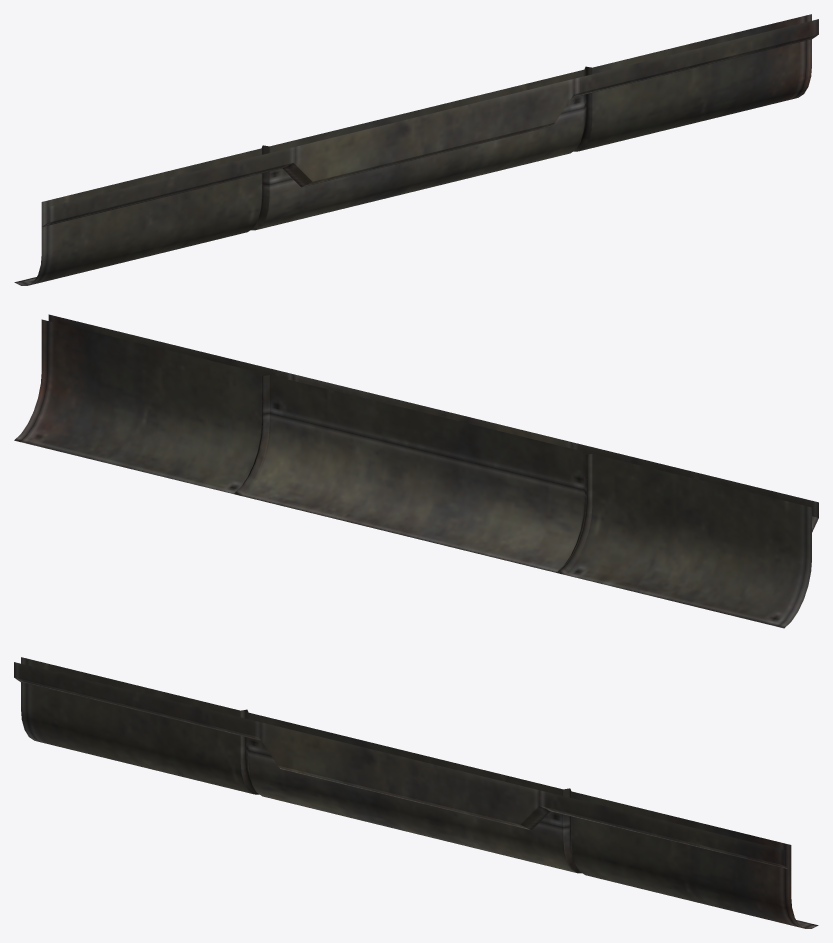
Rendered from welder_ceiling_pplant.dae.
3 views of the same model, one above another, from view 1: azimuth 30°, elevation 25°; view 2: azimuth 150°, elevation 25°; view 3: azimuth 330°, elevation 25° (orthographic).
Visible parts, largest first — view 1: welder_ceiling_pplant; view 2: welder_ceiling_pplant; view 3: welder_ceiling_pplant.
Boxes of the visible parts, <box> form: welder_ceiling_pplant: <box>14,14,818,285</box>; welder_ceiling_pplant: <box>14,314,818,628</box>; welder_ceiling_pplant: <box>14,657,818,928</box>.
Bounding box in the file's own units: 4 × 0.5 × 0.3267.
